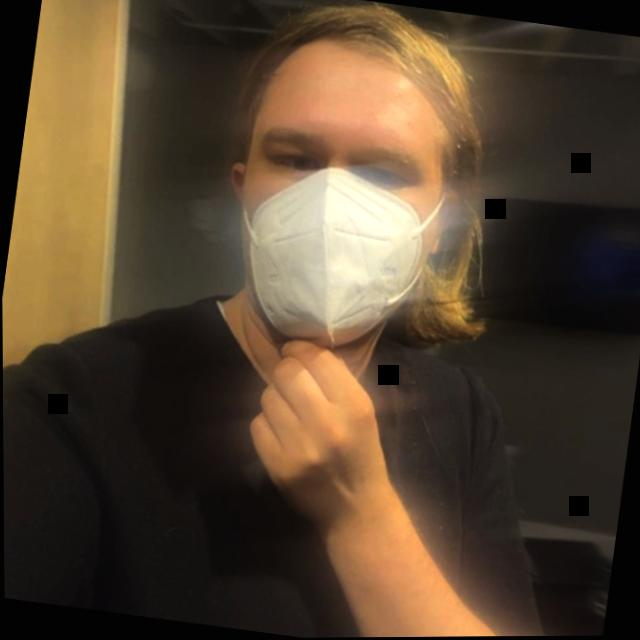Mask: (187, 0, 524, 382)
